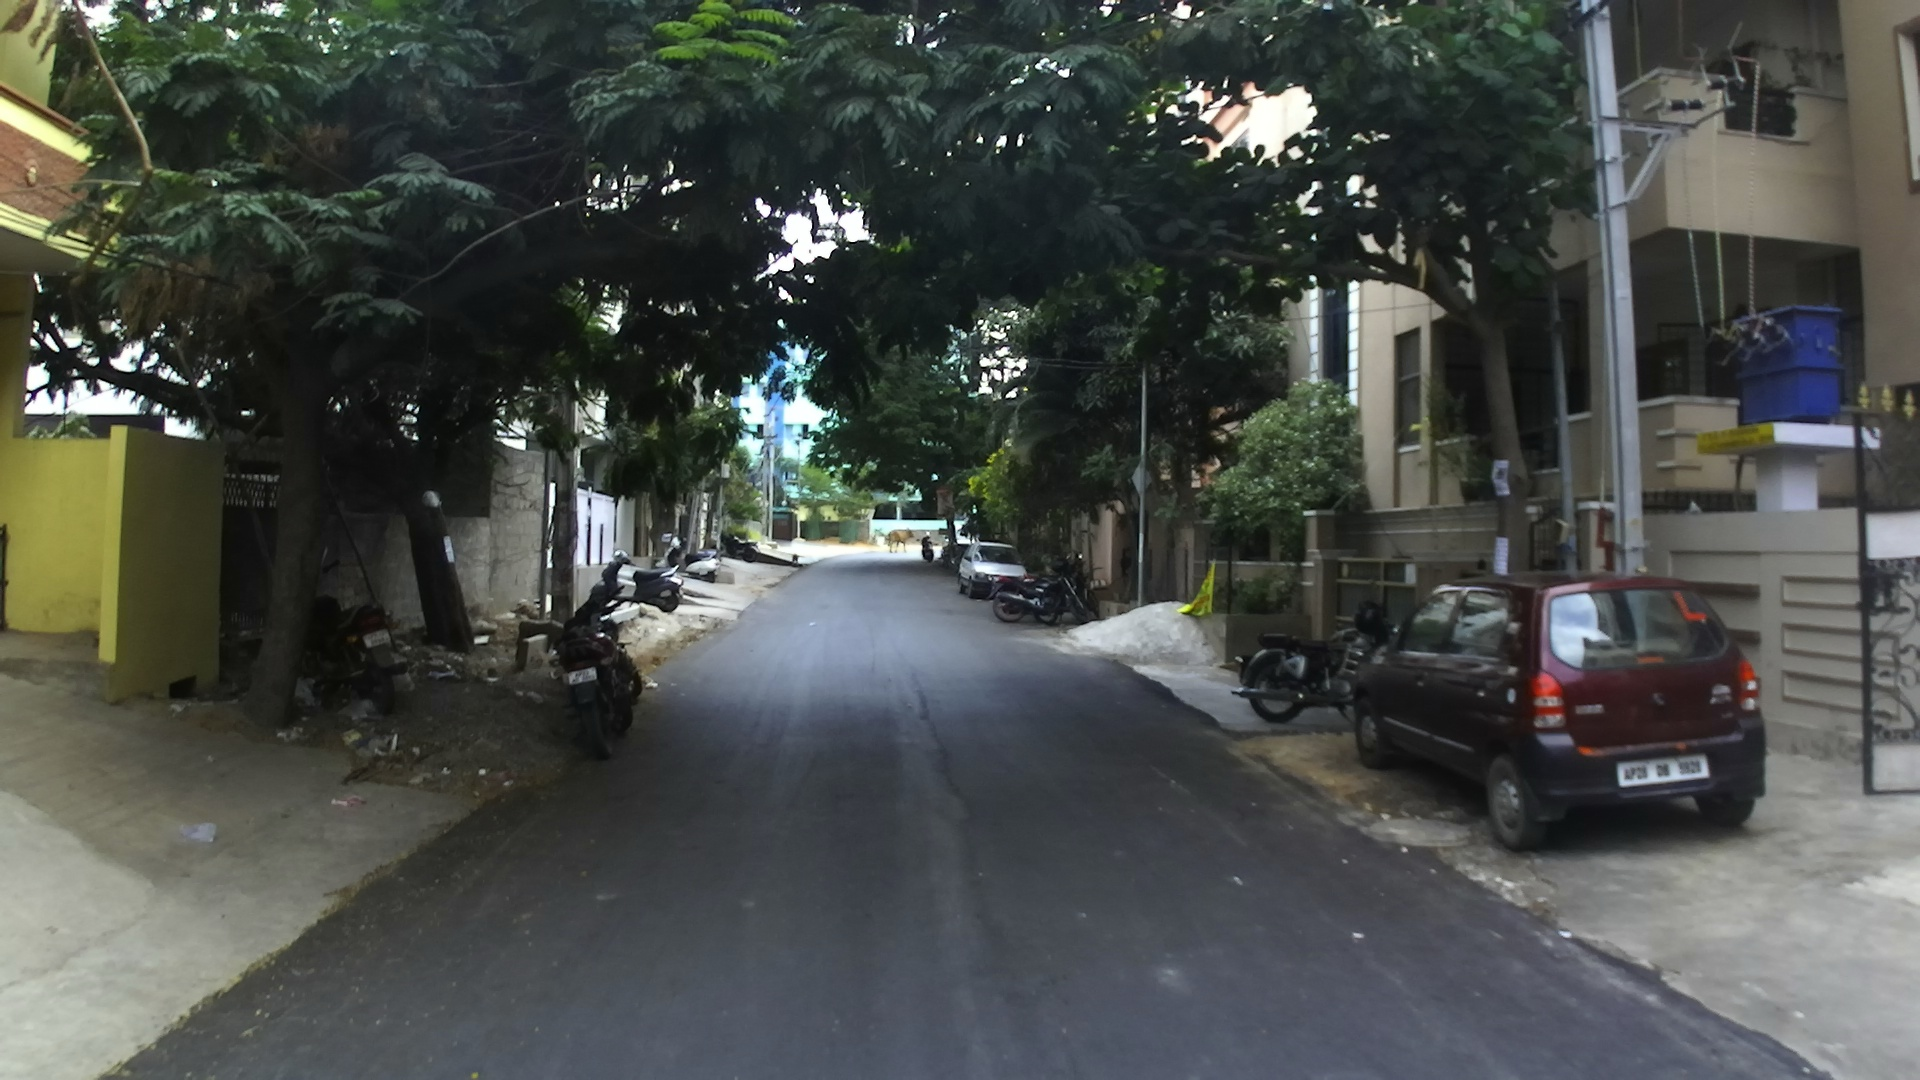vehicle: (1346, 572, 1767, 855), (1236, 604, 1389, 725), (558, 617, 644, 760), (994, 574, 1089, 622), (957, 542, 1029, 600)
